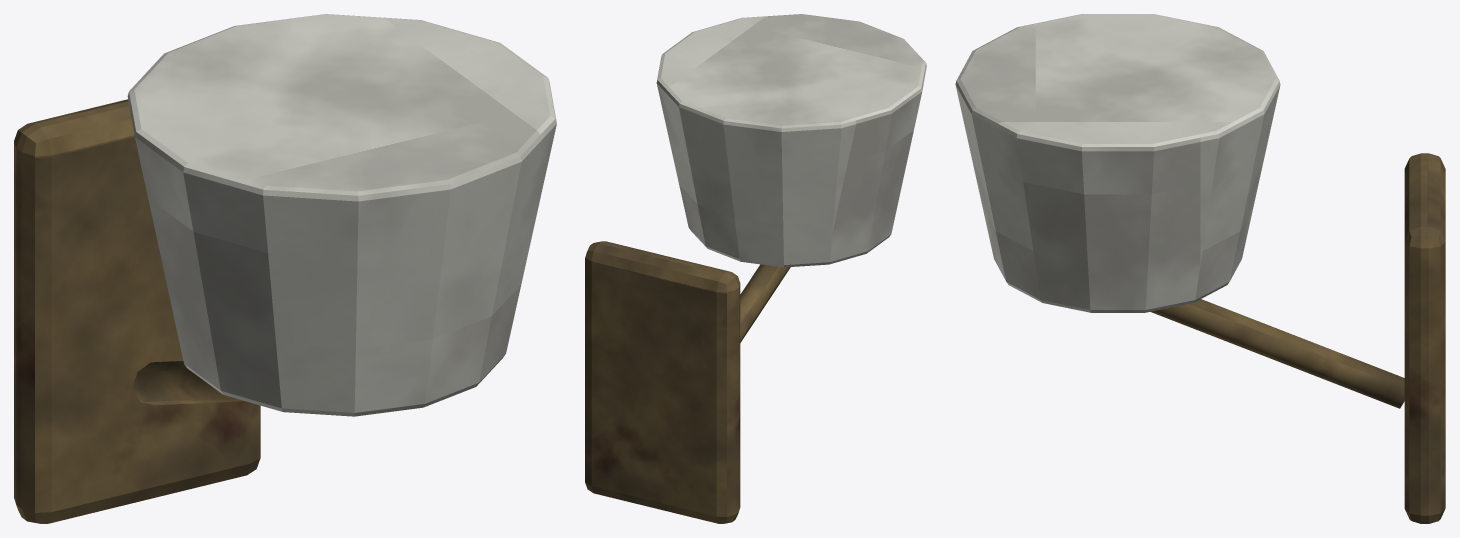
The model's file is U01_wall_sconce_v1.glb.
3 renders of one model, left to right at view 1: azimuth 30°, elevation 25°; view 2: azimuth 150°, elevation 25°; view 3: azimuth 270°, elevation 25°, orthographic. The views are drawn at different scales.
Visible parts, largest first — view 1: U01_wall_sconce_v1; view 2: U01_wall_sconce_v1; view 3: U01_wall_sconce_v1.
Boxes of the visible parts, x1,y1,x2,y2 form: U01_wall_sconce_v1: (14,14,556,523); U01_wall_sconce_v1: (585,14,926,523); U01_wall_sconce_v1: (955,14,1445,523).
Size of the model in its own units: 0.194 by 0.2757 by 0.3.
3 materials, 3 textured.
